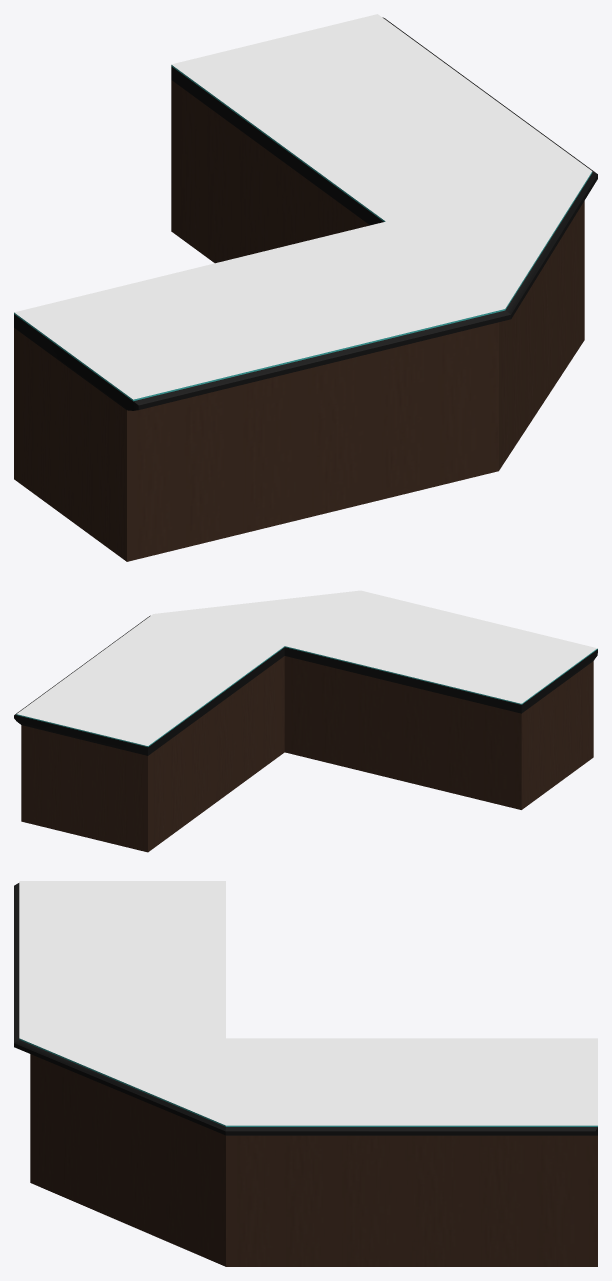
Rendered from Counter_B_04.FBX.
The picture shows the model from 3 angles, top to bottom: view 1: azimuth 30°, elevation 25°; view 2: azimuth 150°, elevation 25°; view 3: azimuth 270°, elevation 25°; orthographic projection. The views are drawn at different scales.
Parts seen in each view (by area): view 1: Countertop_B; view 2: Countertop_B; view 3: Countertop_B.
Boxes of the visible parts, bbox=[...] form: Countertop_B: bbox=[14, 14, 597, 561]; Countertop_B: bbox=[14, 590, 597, 852]; Countertop_B: bbox=[14, 881, 597, 1266].
Size of the model in its own units: 549 by 150 by 550.
